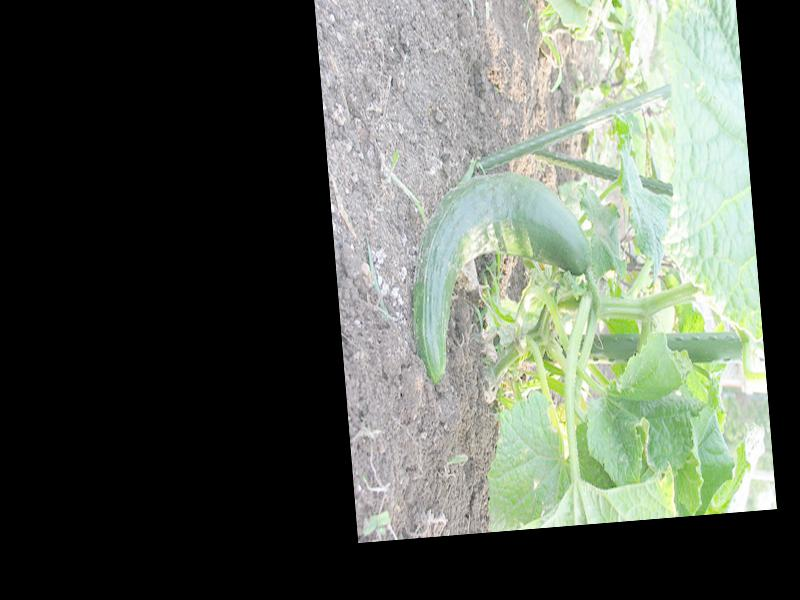Cucumber: (400, 164, 601, 386)
